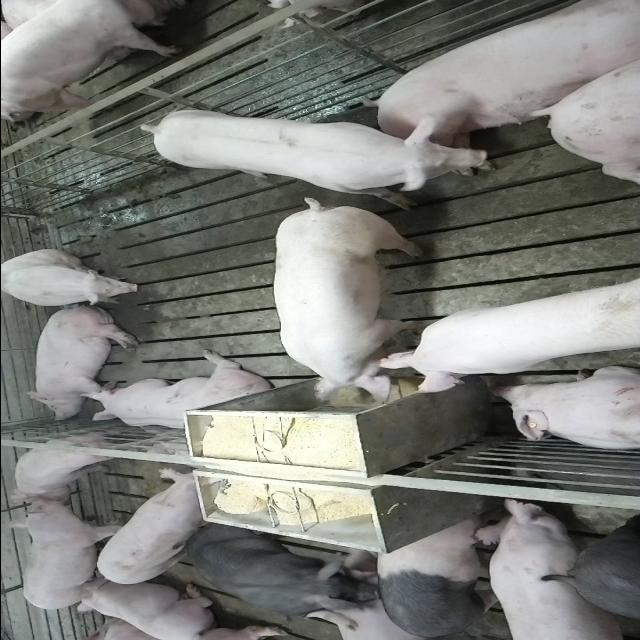Feeding: (268, 197, 431, 408), (367, 276, 633, 392)
Lateral_lying: (20, 306, 141, 420)
Sitting: (1, 249, 145, 308)
Standing: (133, 104, 490, 200), (474, 498, 638, 638), (0, 0, 190, 117), (183, 524, 373, 618), (372, 516, 512, 638), (96, 472, 216, 588), (19, 498, 132, 614), (550, 516, 638, 630), (15, 435, 128, 503)
Sternal_lying: (80, 354, 274, 432), (492, 368, 640, 455), (72, 582, 219, 638), (66, 617, 152, 640)
